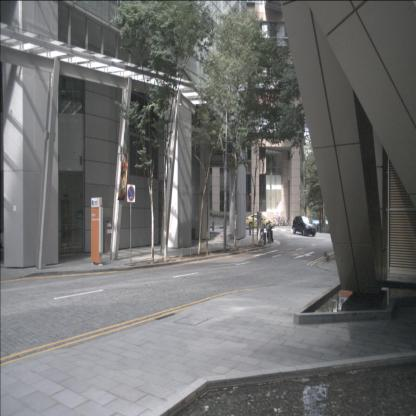human-pedestrian-adult: (266, 220, 274, 244), (260, 217, 265, 239)
vehicle-car: (246, 213, 276, 231), (292, 215, 316, 236)
